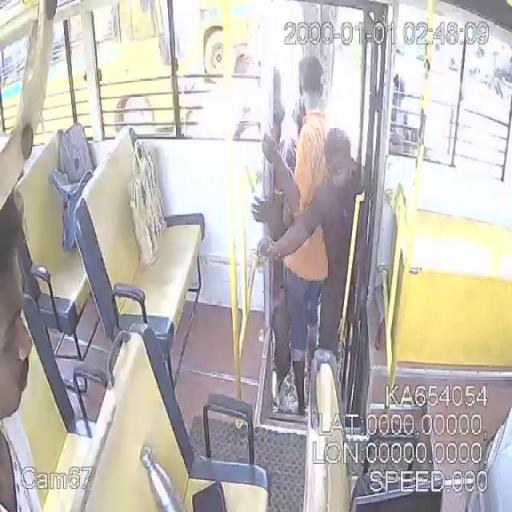persona: (255, 126, 365, 415), (258, 56, 334, 414), (0, 186, 74, 512)
